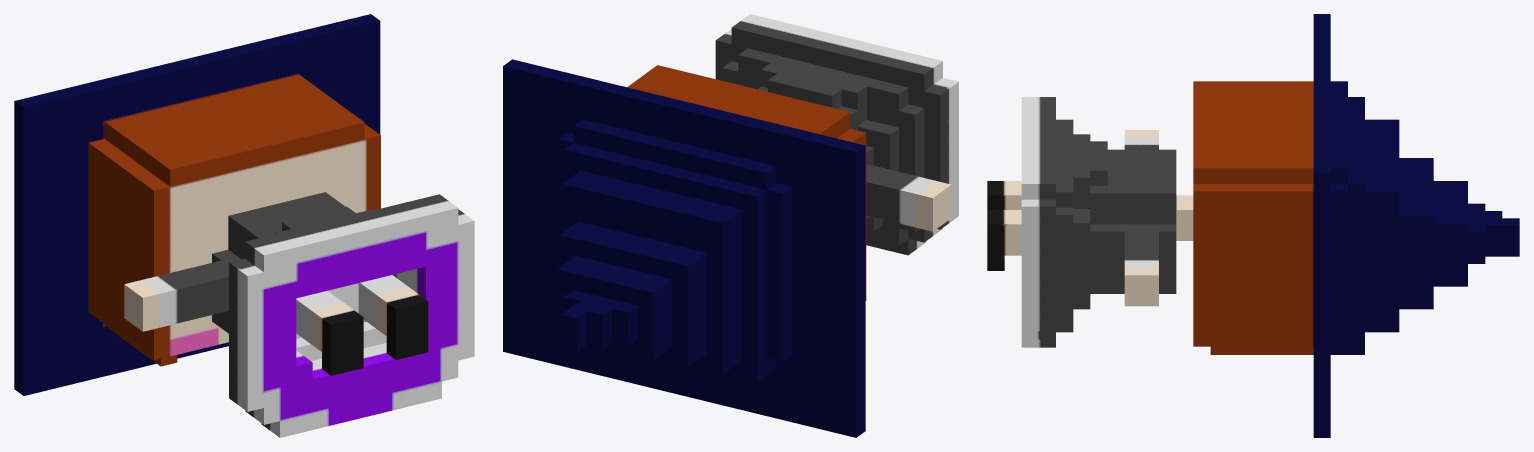
File: hero.fbx
3 views of the same model, side by side, from view 1: azimuth 30°, elevation 25°; view 2: azimuth 150°, elevation 25°; view 3: azimuth 270°, elevation 25° (orthographic). The views are drawn at different scales.
Visible parts, largest first — view 1: hero; view 2: hero; view 3: hero.
Boxes of the visible parts, x1=… form: hero: x1=14, y1=14, x2=474, y2=437; hero: x1=503, y1=14, x2=958, y2=437; hero: x1=987, y1=14, x2=1519, y2=437.
Size of the model in its own units: 222 by 172 by 313.
